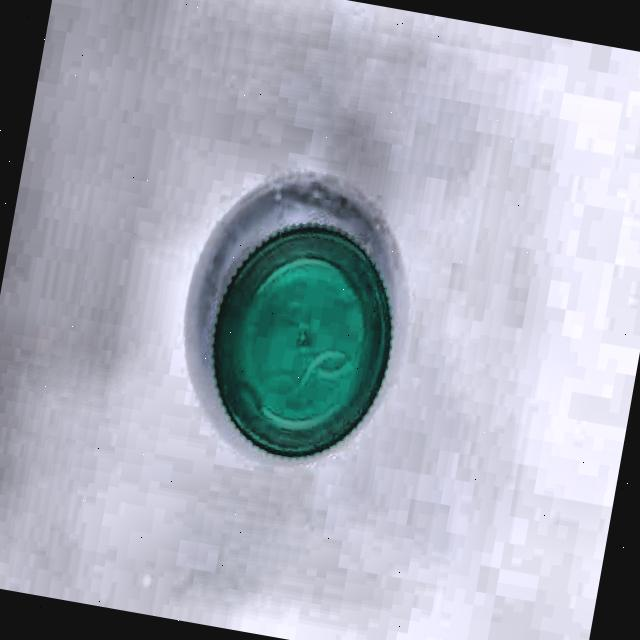plastic: (160, 151, 421, 469)
